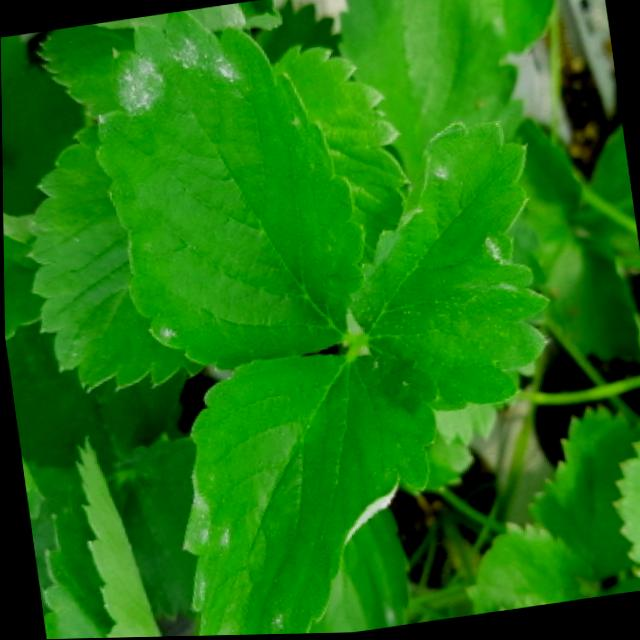Powdery Mildew Leaf: (92, 11, 367, 375), (178, 344, 439, 637), (350, 120, 555, 415)
